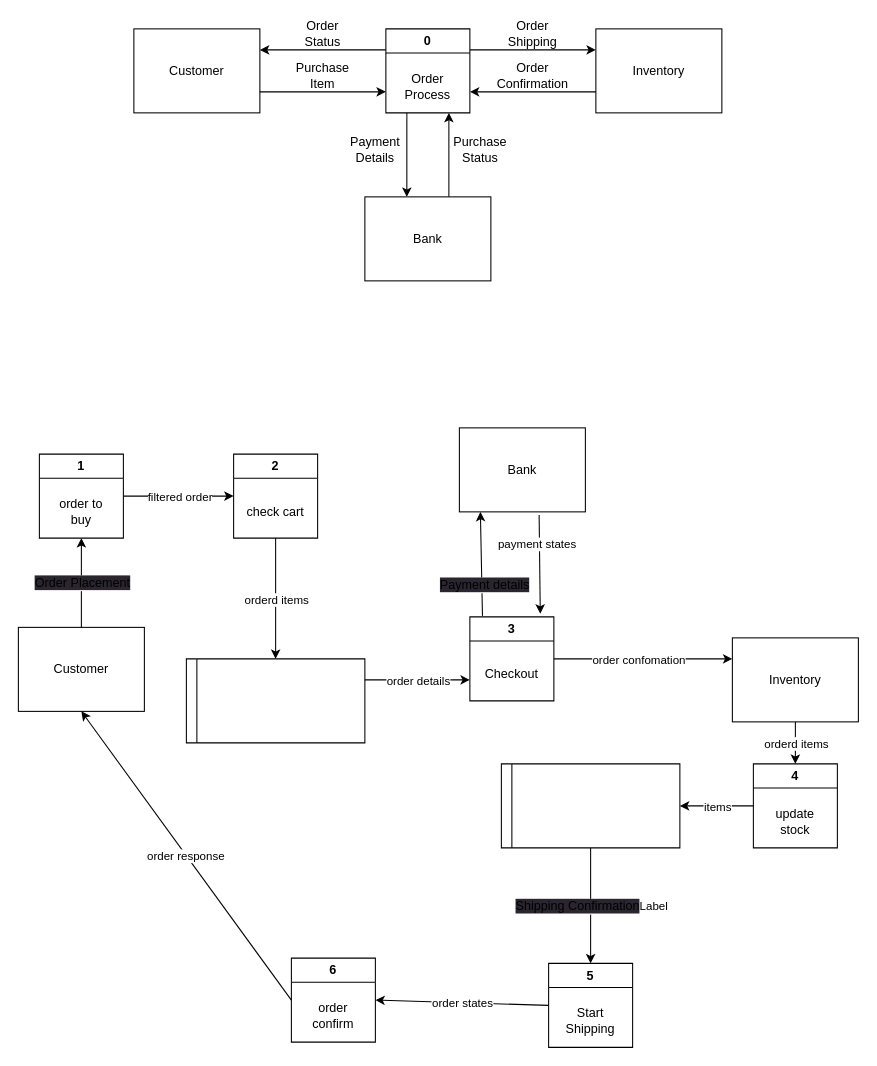
Some shapes in this 877 by 1066 pixel diagram are drawn without their labels. The shapes that lost their labels are listed below. From the top down, each one's box as (x1, y1, x2, y2) in pixels, then its label:
(185, 658, 365, 743): Cart DS
(500, 763, 680, 848): stock ds
